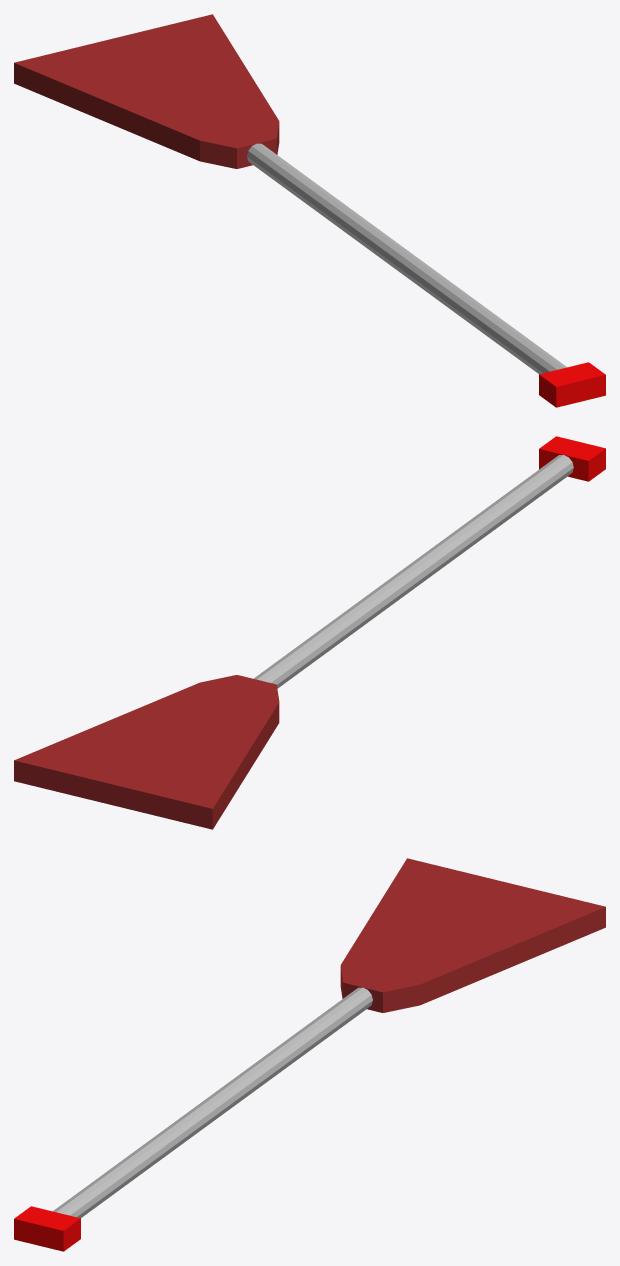
File: nil_link_mesh.dae
3 views of the same model, one above another, from view 1: azimuth 30°, elevation 25°; view 2: azimuth 150°, elevation 25°; view 3: azimuth 330°, elevation 25° (orthographic).
Parts seen in each view (by area): view 1: nil_link (×3); view 2: nil_link (×3); view 3: nil_link (×3).
Part boxes in pixels (x1,y1,x2,y2): nil_link (×3): (14, 14, 605, 407); nil_link (×3): (14, 436, 605, 829); nil_link (×3): (14, 858, 605, 1251).
Bounding box in the file's own units: 0.2 × 0.02 × 0.815.
